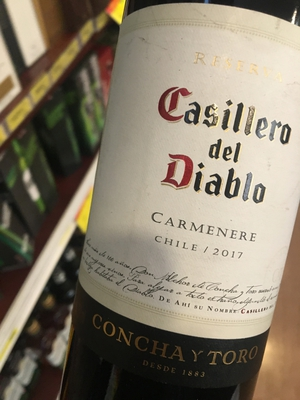casillero del diablo carmenere: (68, 1, 300, 396)
